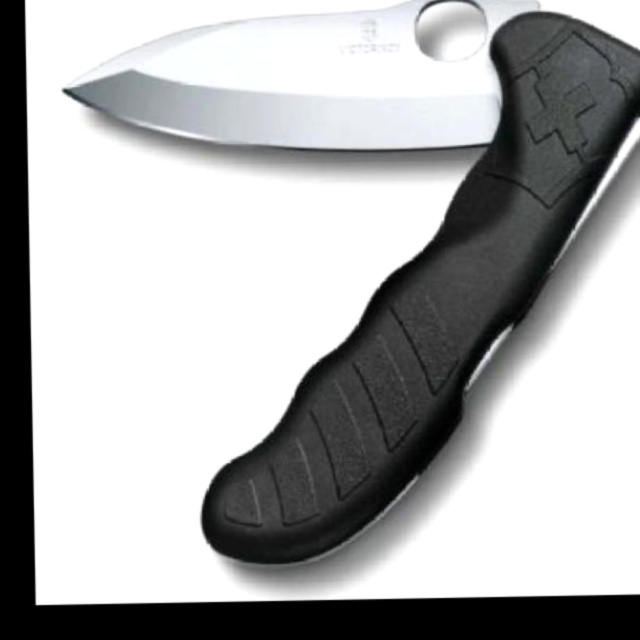Sharp-Object: (60, 0, 640, 572)
